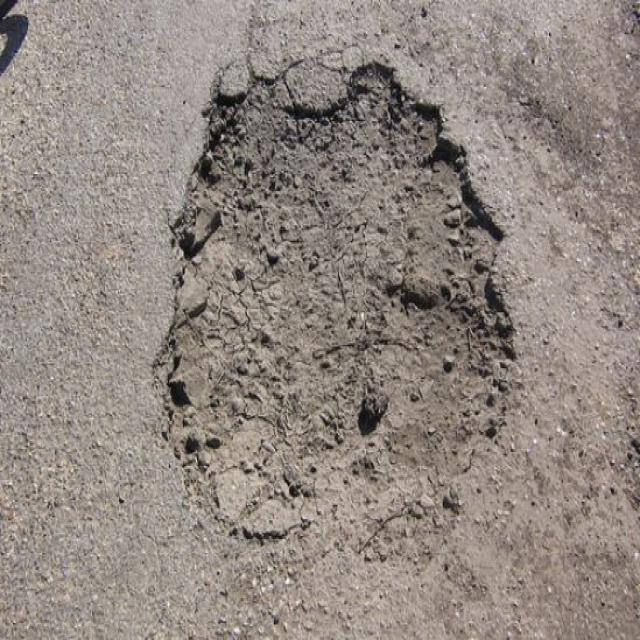Pothole: (149, 36, 522, 577)
